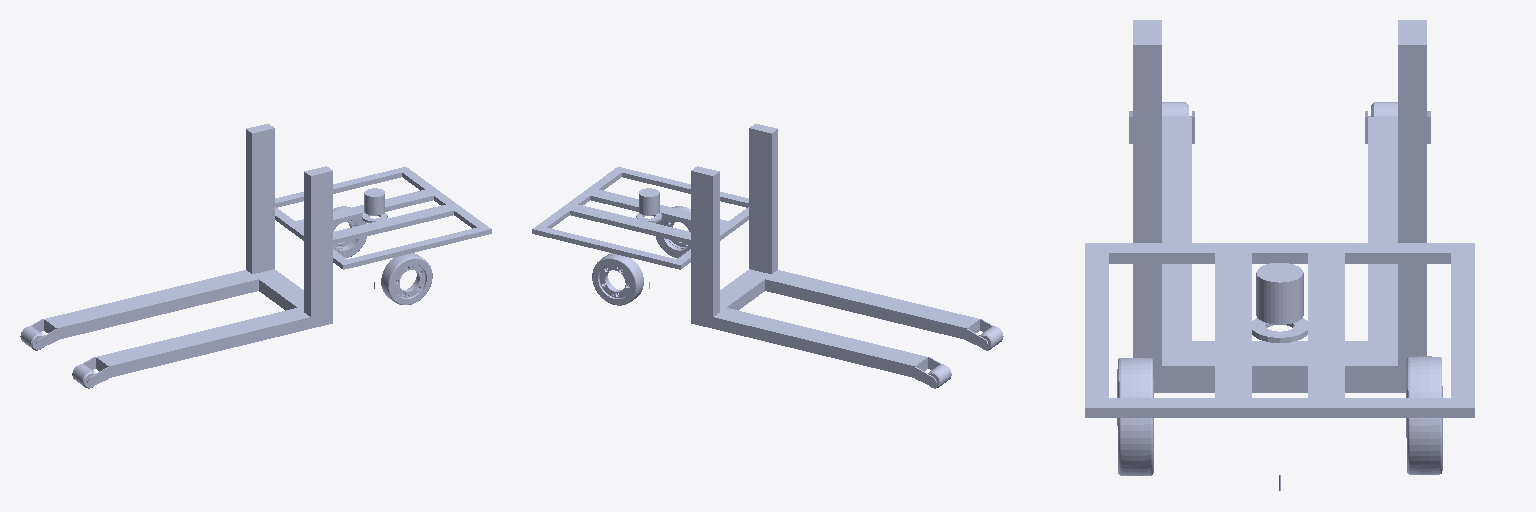
URDF robot description (fork_bot):
<?xml version="1.0" encoding="utf-8"?>
<!-- This URDF was automatically created by SolidWorks to URDF Exporter! Originally created by [author] ([email redacted]) 
     Commit Version: 1.6.0-4-g7f85cfe  Build Version: 1.6.7995.38578
     For more information, please see http://wiki.ros.org/sw_urdf_exporter -->
<robot
  name="fork_bot">
  <link
    name="base_footprint">
    <inertial>
      <origin
        xyz="4.1633E-17 -4.996E-16 0.015"
        rpy="0 0 0" />
      <mass
        value="9.4248E-05" />
      <inertia
        ixx="7.0921E-09"
        ixy="0"
        ixz="2.2824E-25"
        iyy="7.0921E-09"
        iyz="-2.5464E-23"
        izz="4.7124E-11" />
    </inertial>
    <visual>
      <origin
        xyz="0 0 0"
        rpy="0 0 0" />
      <geometry>
        <mesh
          filename="package://fork_bot/meshes/base_footprint.STL" />
      </geometry>
      <material
        name="">
        <color
          rgba="0.79216 0.81961 0.93333 1" />
      </material>
    </visual>
    <collision>
      <origin
        xyz="0 0 0"
        rpy="0 0 0" />
      <geometry>
        <mesh
          filename="package://fork_bot/meshes/base_footprint.STL" />
      </geometry>
    </collision>
  </link>
  <link
    name="base_link">
    <inertial>
      <origin
        xyz="5.2256E-05 0.00015303 -0.12797"
        rpy="0 0 0" />
      <mass
        value="20" />
      <inertia
        ixx="0.015438"
        ixy="-4.3699E-05"
        ixz="-8.306E-06"
        iyy="0.020516"
        iyz="-2.3218E-07"
        izz="0.013628" />
    </inertial>
    <visual>
      <origin
        xyz="0 0 0"
        rpy="0 0 0" />
      <geometry>
        <mesh
          filename="package://fork_bot/meshes/base_link.STL" />
      </geometry>
      <material
        name="">
        <color
          rgba="0.79216 0.81961 0.93333 1" />
      </material>
    </visual>
    <collision>
      <origin
        xyz="0 0 0"
        rpy="0 0 0" />
      <geometry>
        <mesh
          filename="package://fork_bot/meshes/base_link.STL" />
      </geometry>
    </collision>
  </link>
  <joint
    name="base_joint"
    type="fixed">
    <origin
      xyz="0 0 0.29"
      rpy="0 0 0" />
    <parent
      link="base_footprint" />
    <child
      link="base_link" />
    <axis
      xyz="0 0 0" />
  </joint>
  <link
    name="l_wheel_link">
    <inertial>
      <origin
        xyz="0.00026592 -0.029666 1.6511E-08"
        rpy="0 0 0" />
      <mass
        value="1.2164" />
      <inertia
        ixx="0.0044419"
        ixy="-3.3916E-05"
        ixz="-4.9254E-07"
        iyy="0.0082254"
        iyz="-4.4894E-09"
        izz="0.0044446" />
    </inertial>
    <visual>
      <origin
        xyz="0 0 0"
        rpy="0 0 0" />
      <geometry>
        <mesh
          filename="package://fork_bot/meshes/l_wheel_link.STL" />
      </geometry>
      <material
        name="">
        <color
          rgba="0.79216 0.81961 0.93333 1" />
      </material>
    </visual>
    <collision>
      <origin
        xyz="0 0 0"
        rpy="0 0 0" />
      <geometry>
        <mesh
          filename="package://fork_bot/meshes/l_wheel_link.STL" />
      </geometry>
    </collision>
  </link>
  
  <joint
    name="l_wheel_joint"
    type="continuous">
    <origin
      xyz="-0.0024648 0.27499 -0.15"
      rpy="0 0 0" />
    <parent
      link="base_link" />
    <child
      link="l_wheel_link" />
    <axis
      xyz="0.0089631 -0.99996 0" />
  </joint>
  <link
    name="r_wheel_link">
    <inertial>
      <origin
        xyz="-0.00026589 0.029666 -1.6511E-08"
        rpy="0 0 0" />
      <mass
        value="1.2164" />
      <inertia
        ixx="0.0044419"
        ixy="-3.3916E-05"
        ixz="4.9254E-07"
        iyy="0.0082254"
        iyz="4.3402E-09"
        izz="0.0044446" />
    </inertial>
    <visual>
      <origin
        xyz="0 0 0"
        rpy="0 0 0" />
      <geometry>
        <mesh
          filename="package://fork_bot/meshes/r_wheel_link.STL" />
      </geometry>
      <material
        name="">
        <color
          rgba="0.79216 0.81961 0.93333 1" />
      </material>
    </visual>
    <collision>
      <origin
        xyz="0 0 0"
        rpy="0 0 0" />
      <geometry>
        <mesh
          filename="package://fork_bot/meshes/r_wheel_link.STL" />
      </geometry>
    </collision>
  </link>
  <joint
    name="r_wheel_joint"
    type="continuous">
    <origin
      xyz="0.0024626 -0.27474 -0.15"
      rpy="0 0 0" />
    <parent
      link="base_link" />
    <child
      link="r_wheel_link" />
    <axis
      xyz="-0.0089631 0.99996 0" />
  </joint>
  <link
    name="laser_link">
    <inertial>
      <origin
        xyz="0 0 -0.0395"
        rpy="0 0 0" />
      <mass
        value="0.3971" />
      <inertia
        ixx="0.00036536"
        ixy="-4.2352E-21"
        ixz="-2.2304E-21"
        iyy="0.00036536"
        iyz="-1.9992E-23"
        izz="0.00031768" />
    </inertial>
    <visual>
      <origin
        xyz="0 0 0"
        rpy="0 0 0" />
      <geometry>
        <mesh
          filename="package://fork_bot/meshes/laser_link.STL" />
      </geometry>
      <material
        name="">
        <color
          rgba="0.79216 0.81961 0.93333 1" />
      </material>
    </visual>
    <collision>
      <origin
        xyz="0 0 0"
        rpy="0 0 0" />
      <geometry>
        <mesh
          filename="package://fork_bot/meshes/laser_link.STL" />
      </geometry>
    </collision>
  </link>
  <joint
    name="laser_joint"
    type="fixed">
    <origin
      xyz="0 0 0.119"
      rpy="0 0 0" />
    <parent
      link="base_link" />
    <child
      link="laser_link" />
    <axis
      xyz="0 0 0" />
  </joint>
  <link
    name="fork_link">
    <inertial>
      <origin
        xyz="0.20963 1.3878E-16 0.15334"
        rpy="0 0 0" />
      <mass
        value="70" />
      <inertia
        ixx="1.5144"
        ixy="-1.7573E-15"
        ixz="-0.75137"
        iyy="3.7201"
        iyz="-6.5226E-16"
        izz="3.9312" />
    </inertial>
    <visual>
      <origin
        xyz="0 0 0"
        rpy="0 0 0" />
      <geometry>
        <mesh
          filename="package://fork_bot/meshes/fork_link.STL" />
      </geometry>
      <material
        name="">
        <color
          rgba="0.79216 0.81961 0.93333 1" />
      </material>
    </visual>
    <collision>
      <origin
        xyz="0 0 0"
        rpy="0 0 0" />
      <geometry>
        <mesh
          filename="package://fork_bot/meshes/fork_link.STL" />
      </geometry>
    </collision>
  </link>
  <joint
    name="fork_joint"
    type="revolute">
    <origin
      xyz="-0.7713 0 -0.26"
      rpy="0 0 0" />
    <parent
      link="base_link" />
    <child
      link="fork_link" />
    <axis
      xyz="0 0 1" />
    <limit
      lower="0"
      upper="0"
      effort="0"
      velocity="0" />
  </joint>
</robot>

--- Render facts (derived) ---
The picture shows the robot from 3 angles, left to right: view 1: azimuth 30°, elevation 25°; view 2: azimuth 150°, elevation 25°; view 3: azimuth 270°, elevation 25°; orthographic projection.
Model fork_bot with 6 links and 5 joints (1 revolute, 2 continuous, 2 fixed), rooted at base_footprint, posed all joints at 0.
Visible links, largest first — view 1: fork_link, r_wheel_link, l_wheel_link, laser_link; view 2: fork_link, l_wheel_link, r_wheel_link, laser_link; view 3: fork_link, l_wheel_link, r_wheel_link, laser_link.
Boxes of the visible links, left/top/right/bottom form: fork_link: left=20, top=124, right=491, bottom=388; r_wheel_link: left=381, top=253, right=432, bottom=304; l_wheel_link: left=333, top=206, right=366, bottom=257; laser_link: left=364, top=188, right=384, bottom=215; fork_link: left=532, top=124, right=1003, bottom=388; l_wheel_link: left=592, top=253, right=643, bottom=305; r_wheel_link: left=656, top=206, right=690, bottom=258; laser_link: left=639, top=188, right=659, bottom=215; fork_link: left=1085, top=20, right=1474, bottom=417; l_wheel_link: left=1406, top=356, right=1442, bottom=474; r_wheel_link: left=1117, top=357, right=1153, bottom=475; laser_link: left=1256, top=263, right=1303, bottom=324.
Size in the robot's own frame: 1.77 by 0.66 by 0.68 metres.
Meshes: 6 distinct files referenced, 5 mesh visuals loaded (5 binary STL); not drawn: 1 (reference not matched to a file when rendering).